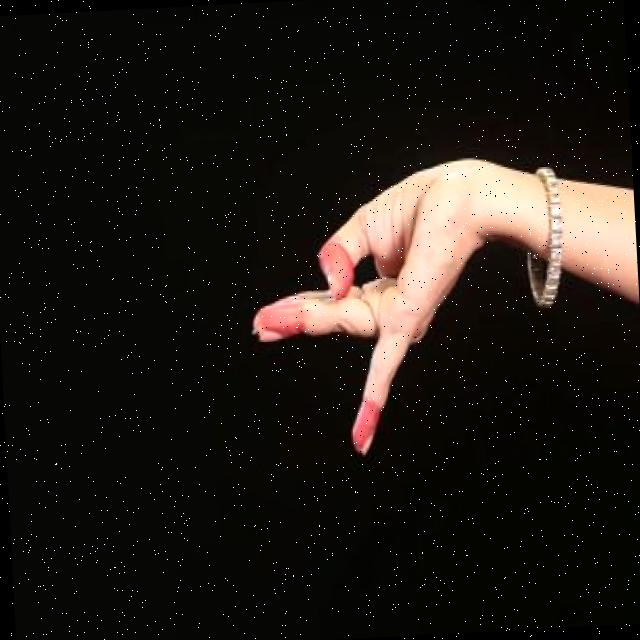Chatura: (216, 95, 541, 544)
